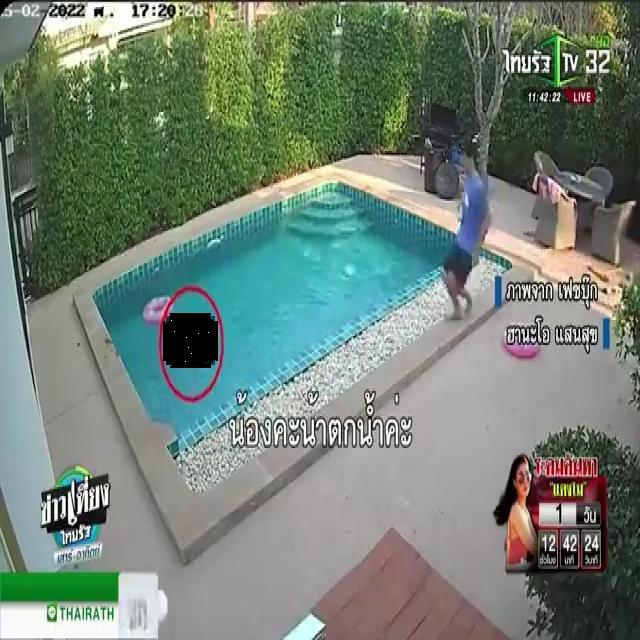Out of Water: (166, 316, 215, 365)
